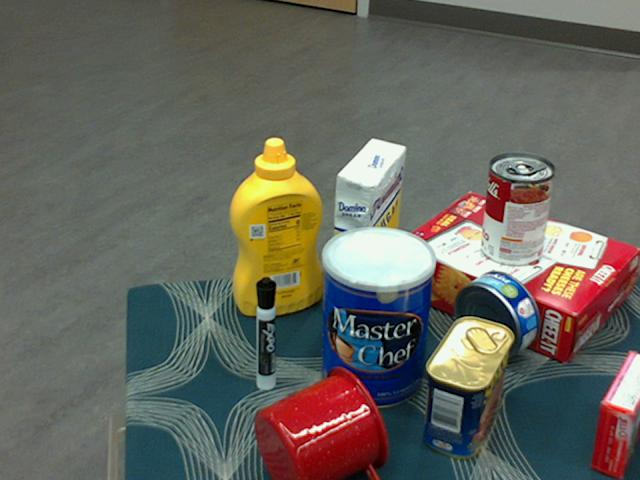cracker_box: (392, 194, 636, 360)
gelatin_box: (589, 351, 639, 478)
large_marker: (254, 276, 274, 391)
master_chef_can: (321, 226, 437, 410)
mug: (253, 366, 390, 479)
mustard_bottle: (228, 138, 322, 317)
potted_meat_can: (423, 317, 514, 459)
sugar_box: (328, 139, 406, 328)
tomato_soup_can: (481, 154, 555, 268)
tuna_fish_can: (455, 270, 541, 359)
